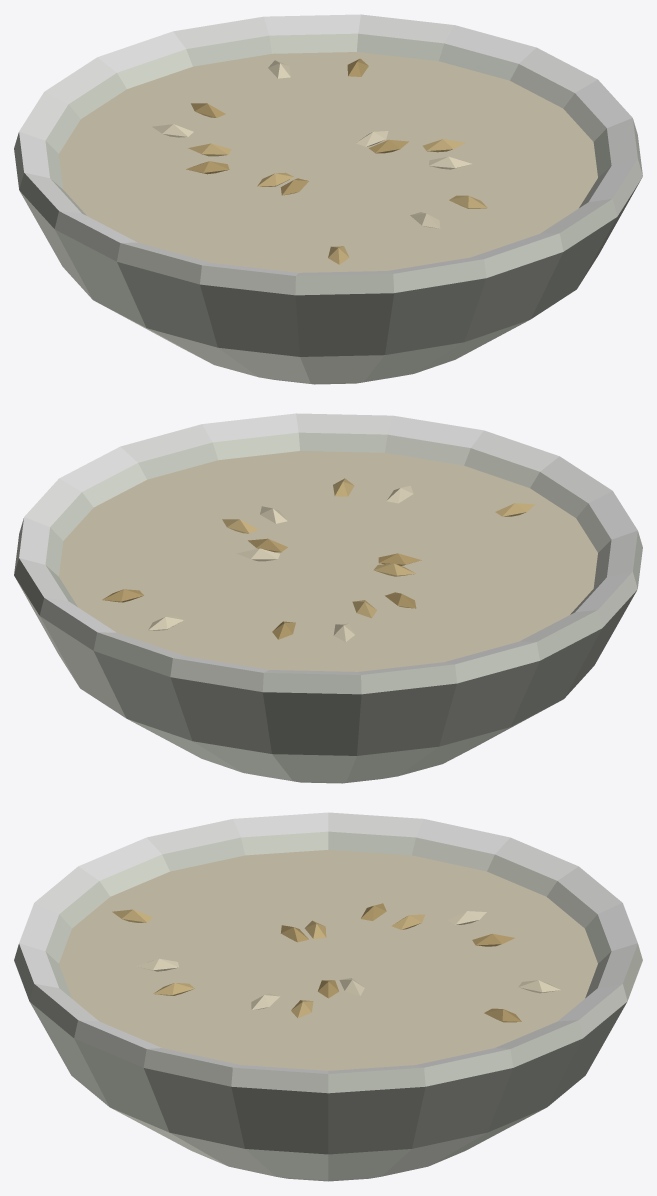
The model's file is porridge_milk.glb.
3 renders of one model, top to bottom at view 1: azimuth 30°, elevation 25°; view 2: azimuth 150°, elevation 25°; view 3: azimuth 270°, elevation 25°, orthographic.
Visible parts, largest first — view 1: food; view 2: food; view 3: food.
Boxes of the visible parts, bbox=[...] form: food: bbox=[14, 14, 642, 384]; food: bbox=[14, 413, 642, 783]; food: bbox=[14, 812, 642, 1181].
Bounding box in the file's own units: 0.5 × 0.16 × 0.5.
